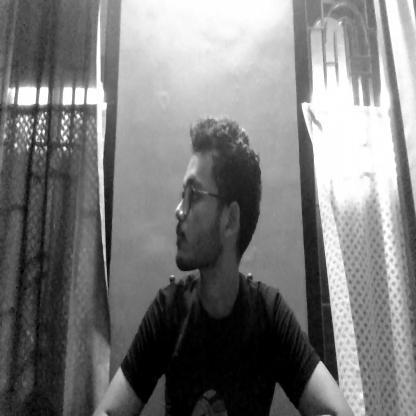Distracted: (167, 116, 259, 288)
